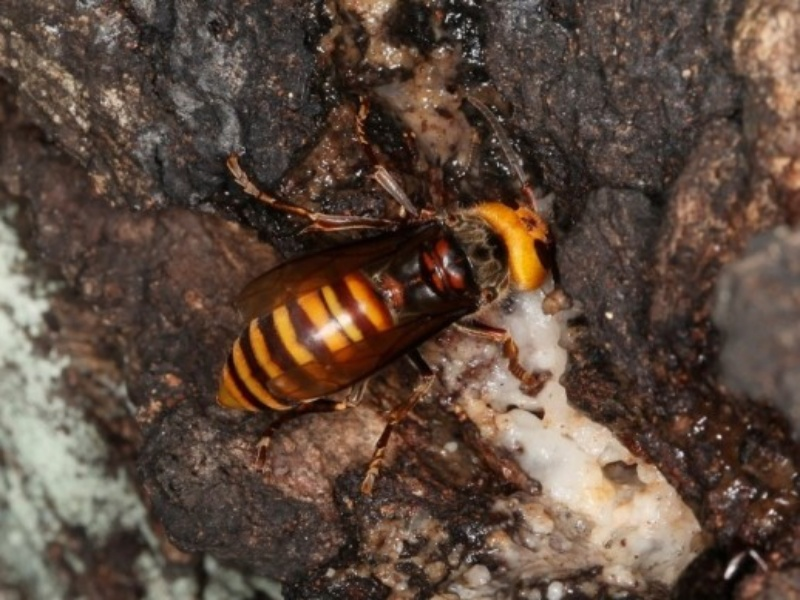asian_giant_hornet: (208, 164, 558, 418)
